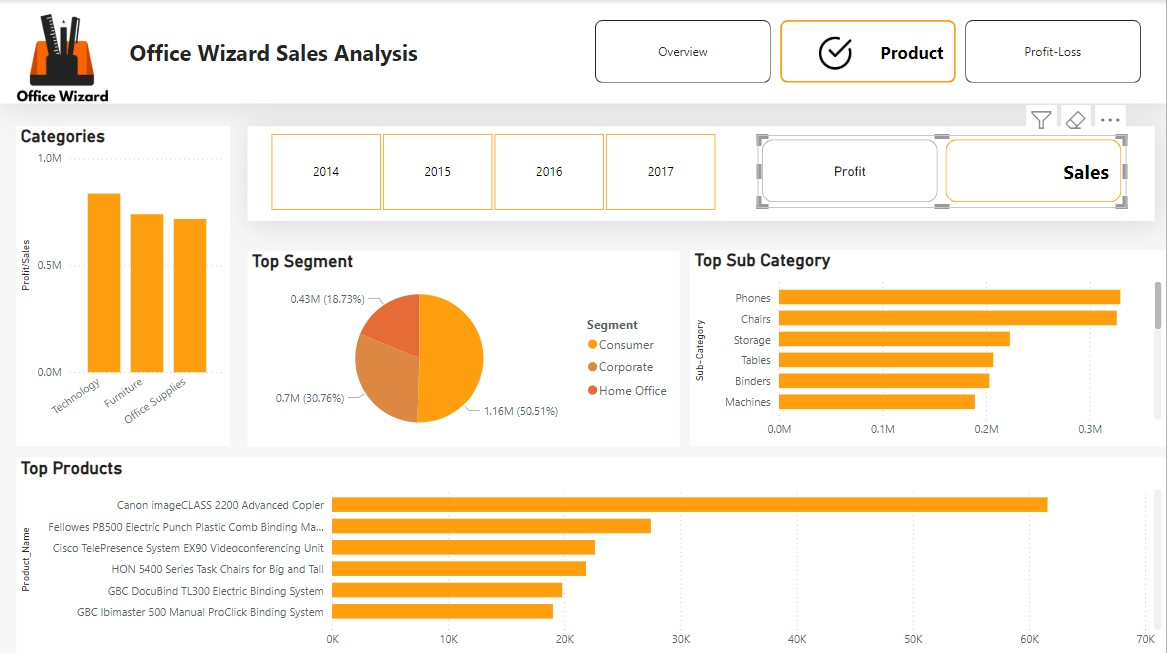

What the dashboard file says about the page in this screenshot:
{"tool":"powerbi","page":{"name":"Product","canvas":[1280,720],"ordinal":1},"visuals":[{"type":"shape","box":[0,0,1280.3,113.9],"z":0},{"type":"image","box":[0,0,137.2,123.5],"z":1000},{"type":"pageNavigator","box":[653.2,22,599.7,70],"z":2000},{"type":"image","box":[879.6,31.6,74.1,53.5],"z":3000},{"type":"shape","box":[271.7,138.6,996.2,104.3],"z":4000},{"type":"advancedSlicerVisual","fields":{"Values":["Sale_Option.Name"]},"box":[831.6,148.2,404.8,79.6],"z":5000},{"type":"slicer","fields":{"Values":["Sheet1.Date.Variation.Date Hierarchy.Year"]},"box":[271.7,140,537.9,97.4],"z":6000},{"type":"barChart","title":"Top Products","fields":{"Category":["Sheet1.Product_Name"],"Y":["Sheet1.Profit/Sales"]},"box":[17.8,502.2,1262.4,218.2],"z":7000},{"type":"barChart","title":"Top Sub Category","fields":{"Category":["Sheet1.Sub-Category"],"Y":["Sheet1.Profit/Sales"]},"box":[757.5,274.4,522.8,215.4],"z":8000},{"type":"pieChart","title":"Top Segment","fields":{"Category":["Sheet1.Segment"],"Y":["Sheet1.Profit/Sales"]},"box":[271.7,275.8,474.8,214.1],"z":9000},{"type":"columnChart","title":"Categories","fields":{"Category":["Sheet1.Category"],"Y":["Sheet1.Profit/Sales"]},"box":[17.8,138.6,234.6,351.3],"z":10000},{"type":"textbox","box":[137.2,37,336.2,49.4],"z":11000}]}

Visuals, with their boxes in screenshot pixels (x1, y1, x2, y2), scaled from the page's 1280x720 canvas onto the 1167x653 screenshot:
shape: left=0, top=0, right=1166, bottom=103
image: left=0, top=0, right=125, bottom=112
pageNavigator: left=596, top=20, right=1142, bottom=83
image: left=802, top=29, right=870, bottom=77
shape: left=248, top=126, right=1156, bottom=220
advancedSlicerVisual - Sale_Option.Name: left=758, top=134, right=1127, bottom=207
slicer - Sheet1.Date.Variation.Date Hierarchy.Year: left=248, top=127, right=738, bottom=215
"Top Products" barChart: left=16, top=455, right=1166, bottom=652
"Top Sub Category" barChart: left=691, top=249, right=1166, bottom=444
"Top Segment" pieChart: left=248, top=250, right=681, bottom=444
"Categories" columnChart: left=16, top=126, right=230, bottom=444
textbox: left=125, top=34, right=432, bottom=78
